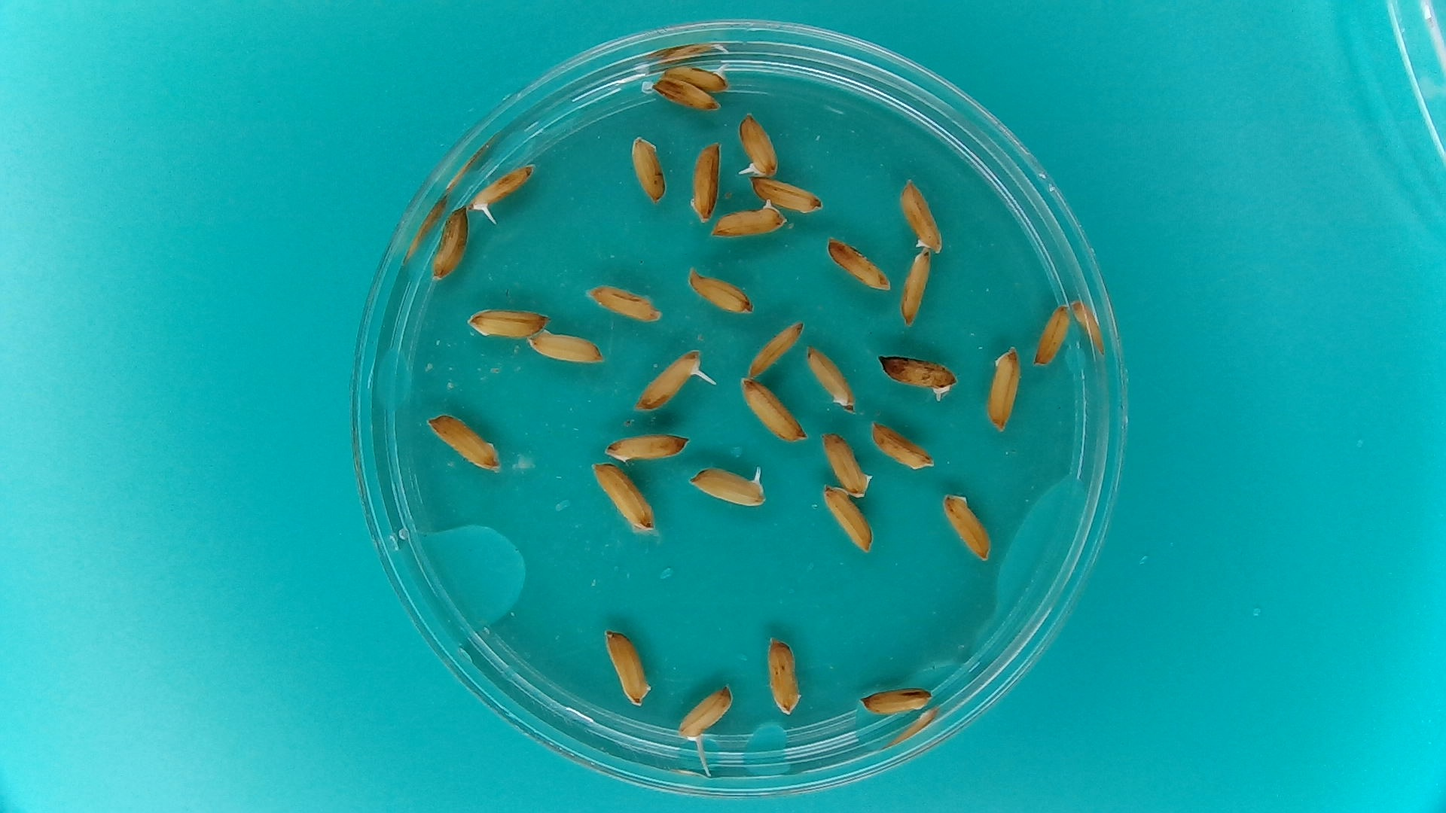no: (590, 462, 657, 534), (426, 412, 502, 473), (738, 376, 807, 443), (600, 626, 654, 708), (825, 236, 894, 294), (805, 343, 858, 414), (746, 319, 806, 381), (821, 428, 873, 499), (822, 485, 875, 554), (763, 633, 806, 717), (942, 490, 992, 562), (686, 263, 753, 315), (710, 193, 789, 237), (584, 282, 666, 324), (868, 420, 935, 470), (900, 178, 945, 251), (428, 205, 469, 282), (628, 133, 670, 206), (751, 175, 823, 216), (987, 344, 1020, 433), (599, 432, 691, 463), (687, 139, 721, 222), (466, 307, 551, 340), (527, 330, 605, 365), (899, 248, 933, 328), (651, 77, 721, 114), (1033, 305, 1072, 368), (856, 685, 933, 715)
yes: (635, 348, 714, 415), (878, 352, 958, 394), (467, 163, 533, 212), (679, 685, 731, 743), (737, 111, 782, 178), (686, 470, 764, 508), (660, 62, 731, 95)
